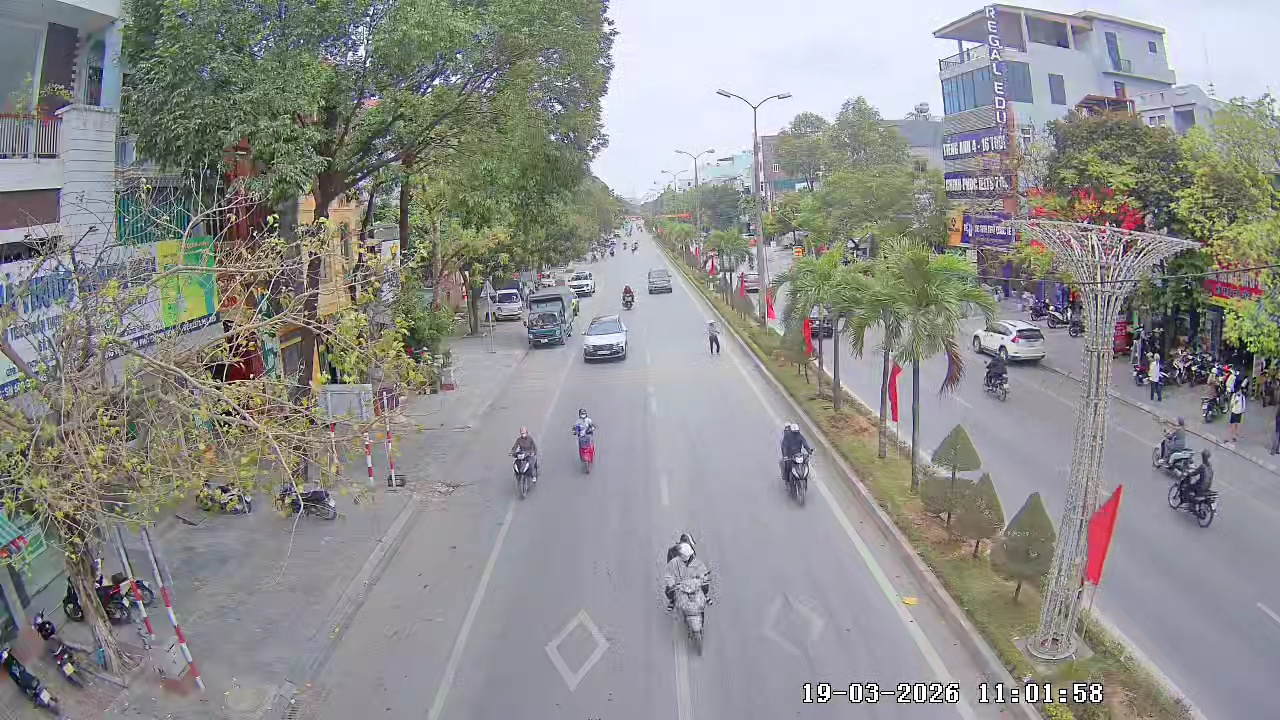car: (581, 312, 631, 364), (1003, 322, 1048, 367), (567, 265, 596, 299), (645, 267, 674, 295)
motorbike: (659, 529, 717, 656), (1167, 445, 1220, 528), (775, 421, 816, 507), (1151, 415, 1195, 476), (508, 426, 542, 500), (569, 406, 600, 475), (290, 484, 339, 522), (984, 352, 1011, 402), (621, 283, 636, 309)
pedestrian: (704, 320, 722, 356)
truck: (525, 284, 574, 347)
